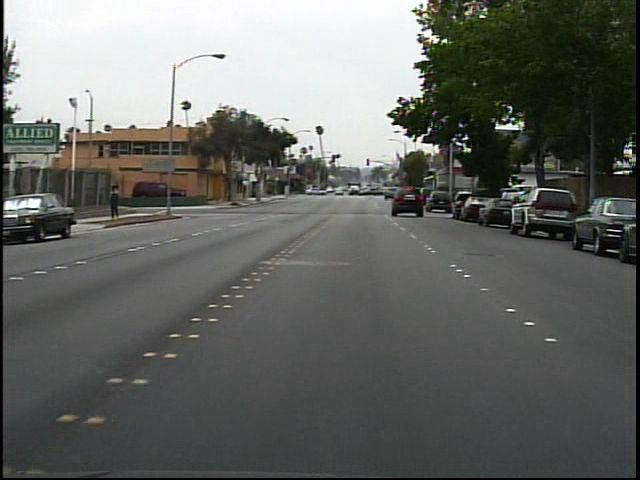person: (107, 178, 128, 221)
